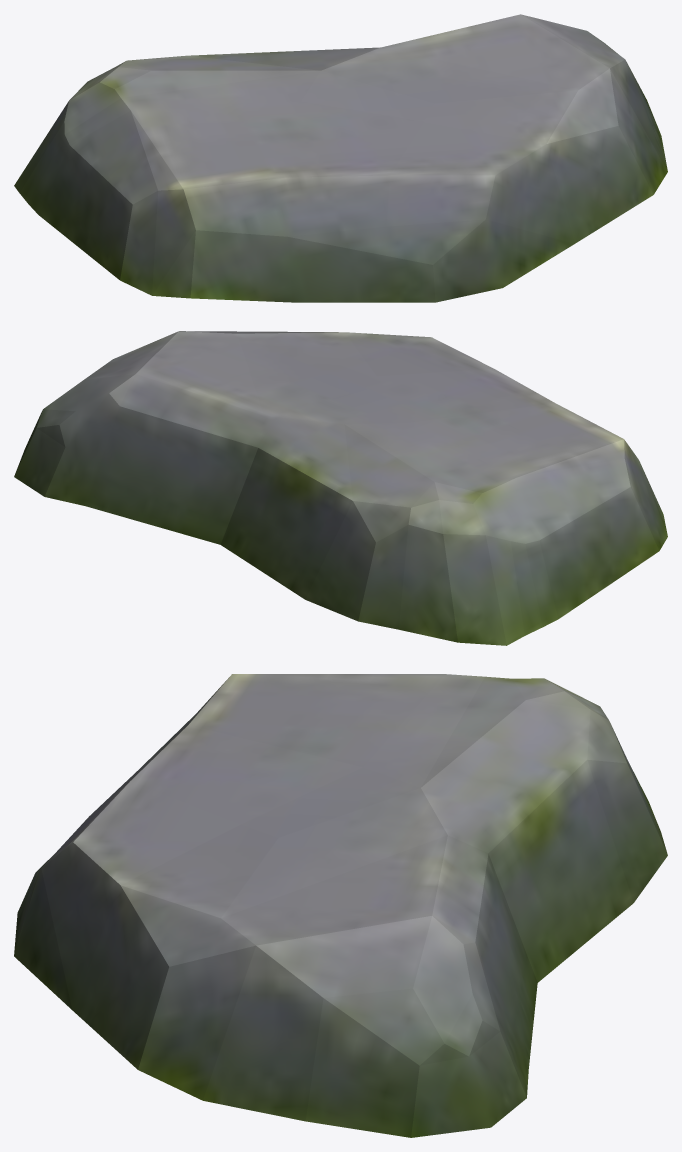
The model's file is Pebble_Round_1.gltf.
3 views of the same model, one above another, from view 1: azimuth 30°, elevation 25°; view 2: azimuth 150°, elevation 25°; view 3: azimuth 270°, elevation 25° (orthographic). The views are drawn at different scales.
Parts seen in each view (by area): view 1: Pebble_Round_1; view 2: Pebble_Round_1; view 3: Pebble_Round_1.
Part boxes in pixels (x1,y1,x2,y2): Pebble_Round_1: (14,14,667,302); Pebble_Round_1: (14,331,667,645); Pebble_Round_1: (14,674,667,1137).
Size of the model in its own units: 0.5 by 0.0955 by 0.367.
Materials: 1 (1 with a texture image).
